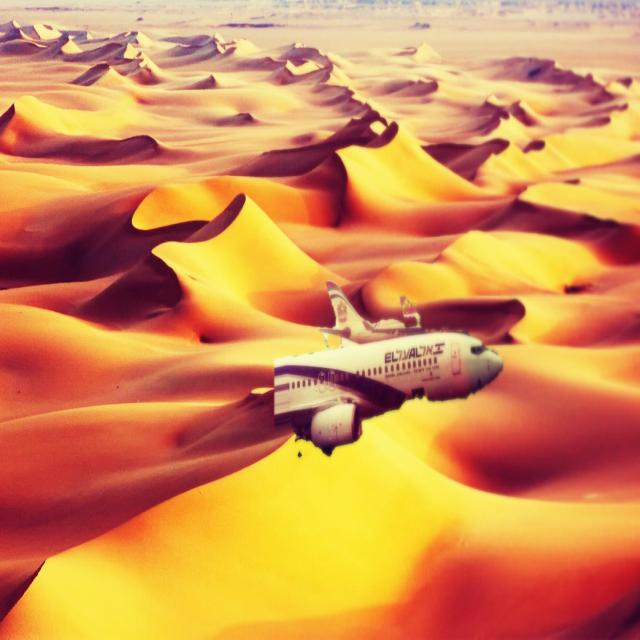airplane: (274, 278, 504, 456)
